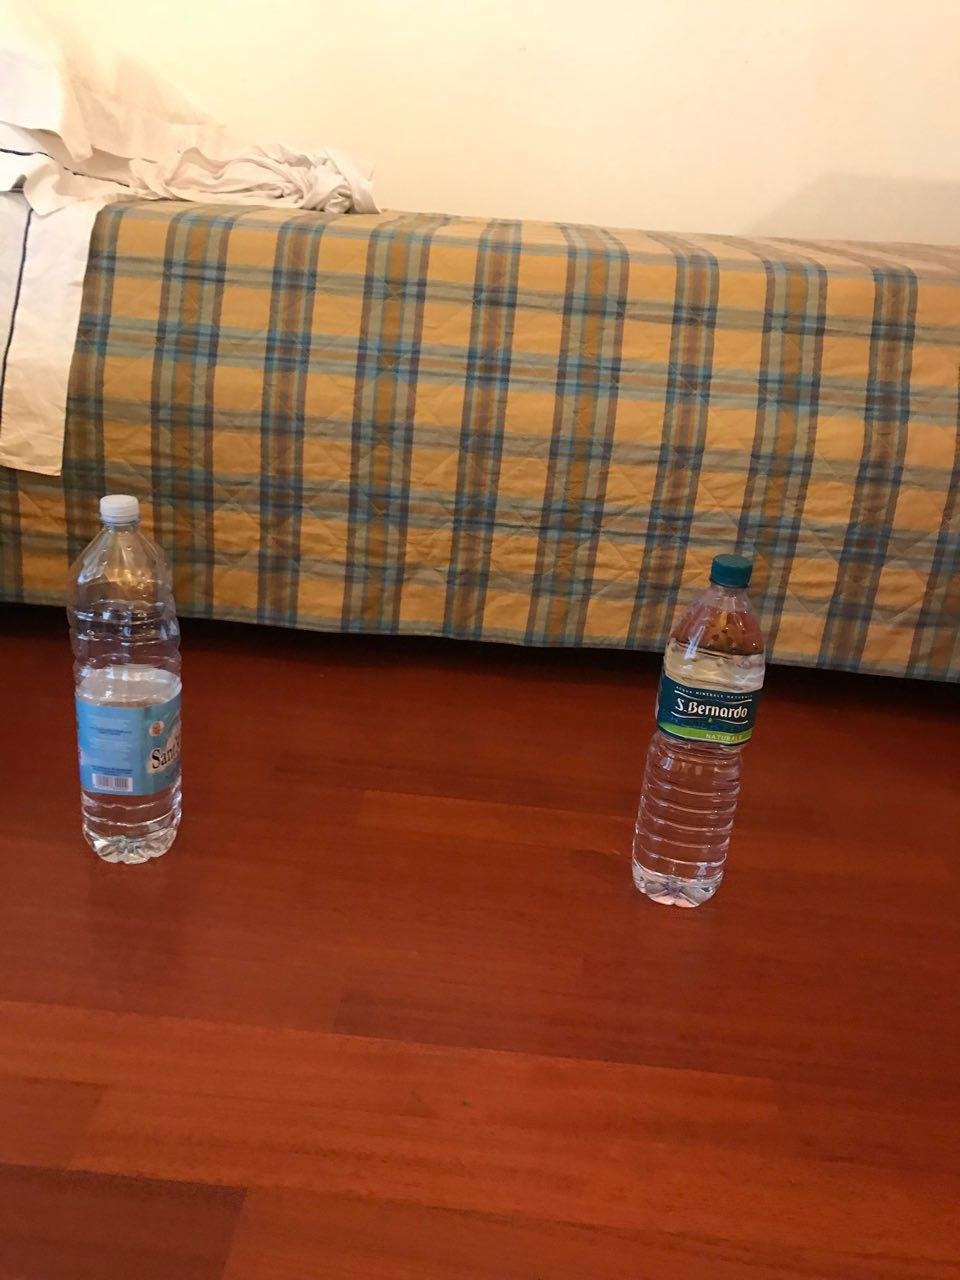san_bernardo: (629, 552, 765, 911)
